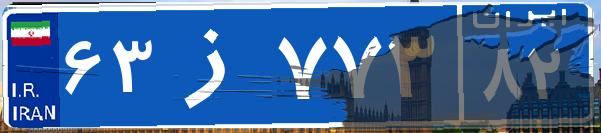2: (525, 38, 570, 115)
3: (385, 28, 445, 110), (110, 28, 158, 105)
6: (57, 26, 110, 107)
7: (273, 28, 330, 110), (330, 28, 385, 110)
8: (475, 38, 525, 113)
ز: (158, 15, 273, 115)
